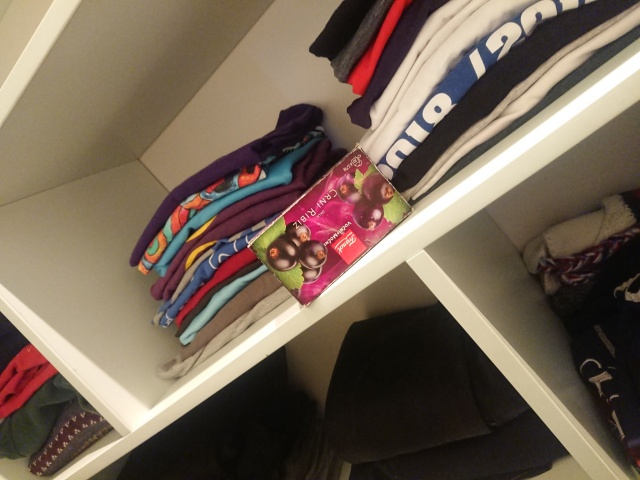Franck Black Currant Tea 60g: (244, 142, 416, 308)
